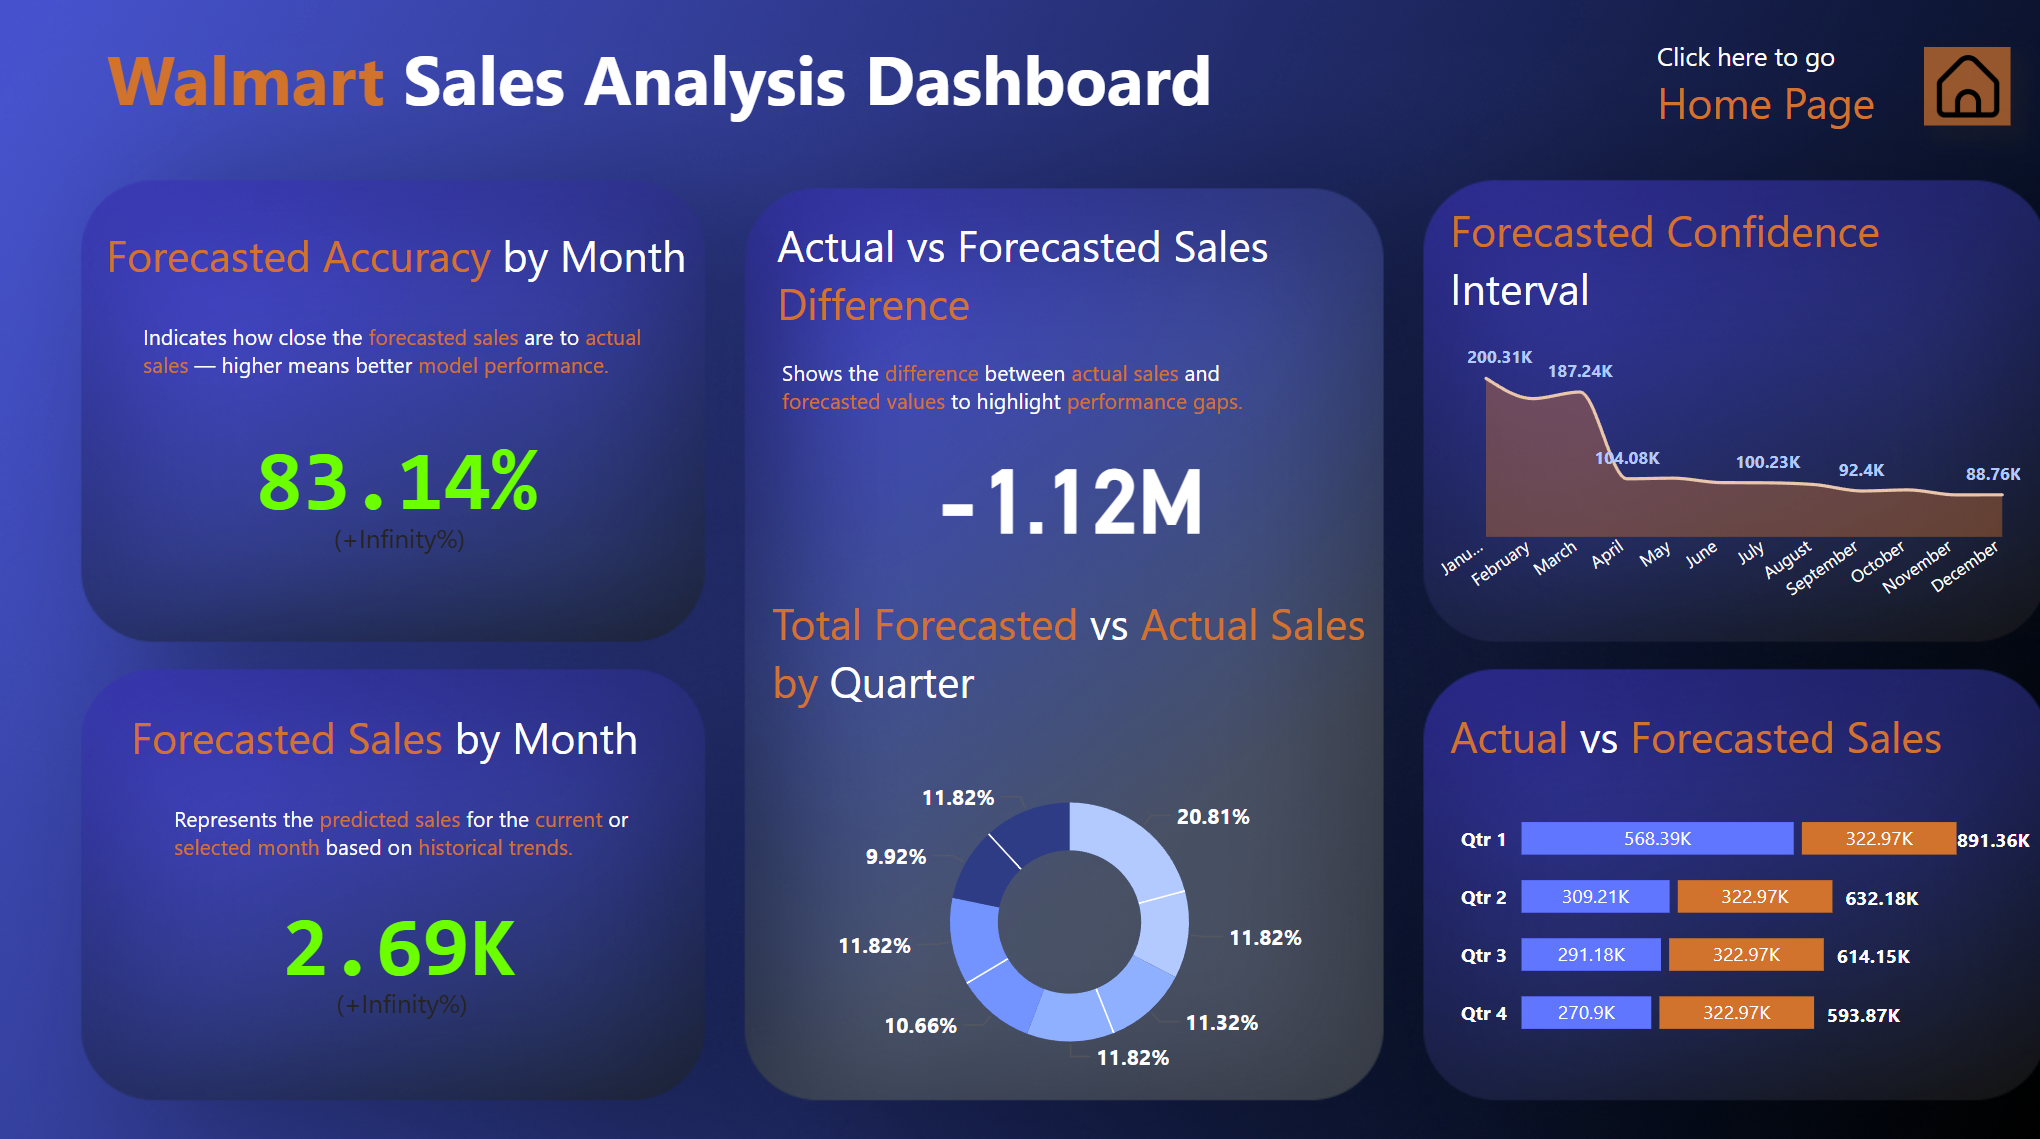

What the dashboard file says about the page in this screenshot:
{"tool":"powerbi","page":{"name":"Sales Forecast & Trends","canvas":[1280,720],"ordinal":2},"visuals":[{"type":"barChart","fields":{"Category":["Forecasted_Sales.ds.Variation.Date Hierarchy.Quarter"],"Y":["Sum(Forecasted_Sales.yhat)","Walmart Sales.Total Sales"]},"box":[909,487.3,366.2,177.8],"z":0},{"type":"kpi","fields":{"Indicator":["Forecasted_Sales.Forecast Accuracy %"],"TrendLine":["Forecasted_Sales.ds.Variation.Date Hierarchy.Quarter"],"Goal":["Min(Forecasted_Sales.ds.Variation.Date Hierarchy.Month)"]},"box":[148.5,272.7,205.9,78.6],"z":1000},{"type":"kpi","fields":{"Indicator":["Forecasted_Sales.Total Forecasted Sales"],"TrendLine":["Forecasted_Sales.ds.Variation.Date Hierarchy.Quarter"],"Goal":["Min(Forecasted_Sales.ds.Variation.Date Hierarchy.Month)"]},"box":[163.5,557.2,179.1,91.7],"z":2000},{"type":"textbox","box":[903.4,438,328.2,49.3],"z":3000},{"type":"textbox","box":[64.9,137.9,391.2,54.3],"z":4000},{"type":"textbox","box":[80.5,438.6,345,48.7],"z":5000},{"type":"areaChart","fields":{"Y":["Sum(Forecasted_Sales.yhat)"],"Category":["Forecasted_Sales.ds.Variation.Date Hierarchy.Month"]},"box":[892.2,191.5,377.5,195.3],"z":6000},{"type":"card","fields":{"Values":["Forecasted_Sales.Difference"]},"box":[565.3,272.7,211.5,69.9],"z":7000},{"type":"textbox","box":[903.4,122.3,371.9,84.2],"z":8000},{"type":"textbox","box":[483.5,131.6,408.7,85.5],"z":9000},{"type":"textbox","box":[107.3,499.1,307,51.8],"z":10000},{"type":"textbox","box":[88,198.4,326.3,67.4],"z":11000},{"type":"textbox","box":[486.7,220.9,310.7,51.8],"z":12000},{"type":"donutChart","fields":{"Category":["Forecasted_Sales.ds.Variation.Date Hierarchy.Quarter"],"Y":["Forecasted_Sales.Total Forecasted Sales","Walmart Sales.Total Sales"]},"box":[483.5,474.8,375,204.6],"z":13000},{"type":"textbox","box":[480.4,367.5,381.2,88],"z":13001},{"type":"textbox","box":[65.5,16.2,774.3,79.2],"z":13002},{"type":"textbox","box":[1032.6,21.2,162.8,69.9],"z":13003},{"type":"image","box":[1204.2,31.2,54.3,49.3],"z":13004}]}

Visuals, with their boxes in screenshot pixels (x1, y1, x2, y2), scaled from the page's 1280x720 canvas onto the 2040x1139 screenshot:
barChart - Forecasted_Sales.ds.Variation.Date Hierarchy.Quarter x Sum(Forecasted_Sales.yhat): l=1449, t=771, r=2032, b=1052
kpi - Forecasted_Sales.Forecast Accuracy % x Forecasted_Sales.ds.Variation.Date Hierarchy.Quarter: l=237, t=431, r=565, b=556
kpi - Forecasted_Sales.Total Forecasted Sales x Forecasted_Sales.ds.Variation.Date Hierarchy.Quarter: l=261, t=881, r=546, b=1027
textbox: l=1440, t=693, r=1963, b=771
textbox: l=103, t=218, r=727, b=304
textbox: l=128, t=694, r=678, b=771
areaChart - Sum(Forecasted_Sales.yhat) x Forecasted_Sales.ds.Variation.Date Hierarchy.Month: l=1422, t=303, r=2024, b=612
card - Forecasted_Sales.Difference: l=901, t=431, r=1238, b=542
textbox: l=1440, t=193, r=2033, b=327
textbox: l=771, t=208, r=1422, b=343
textbox: l=171, t=790, r=660, b=871
textbox: l=140, t=314, r=660, b=420
textbox: l=776, t=349, r=1271, b=431
donutChart - Forecasted_Sales.ds.Variation.Date Hierarchy.Quarter x Forecasted_Sales.Total Forecasted Sales: l=771, t=751, r=1368, b=1075
textbox: l=766, t=581, r=1373, b=721
textbox: l=104, t=26, r=1338, b=151
textbox: l=1646, t=34, r=1905, b=144
image: l=1919, t=49, r=2006, b=127
